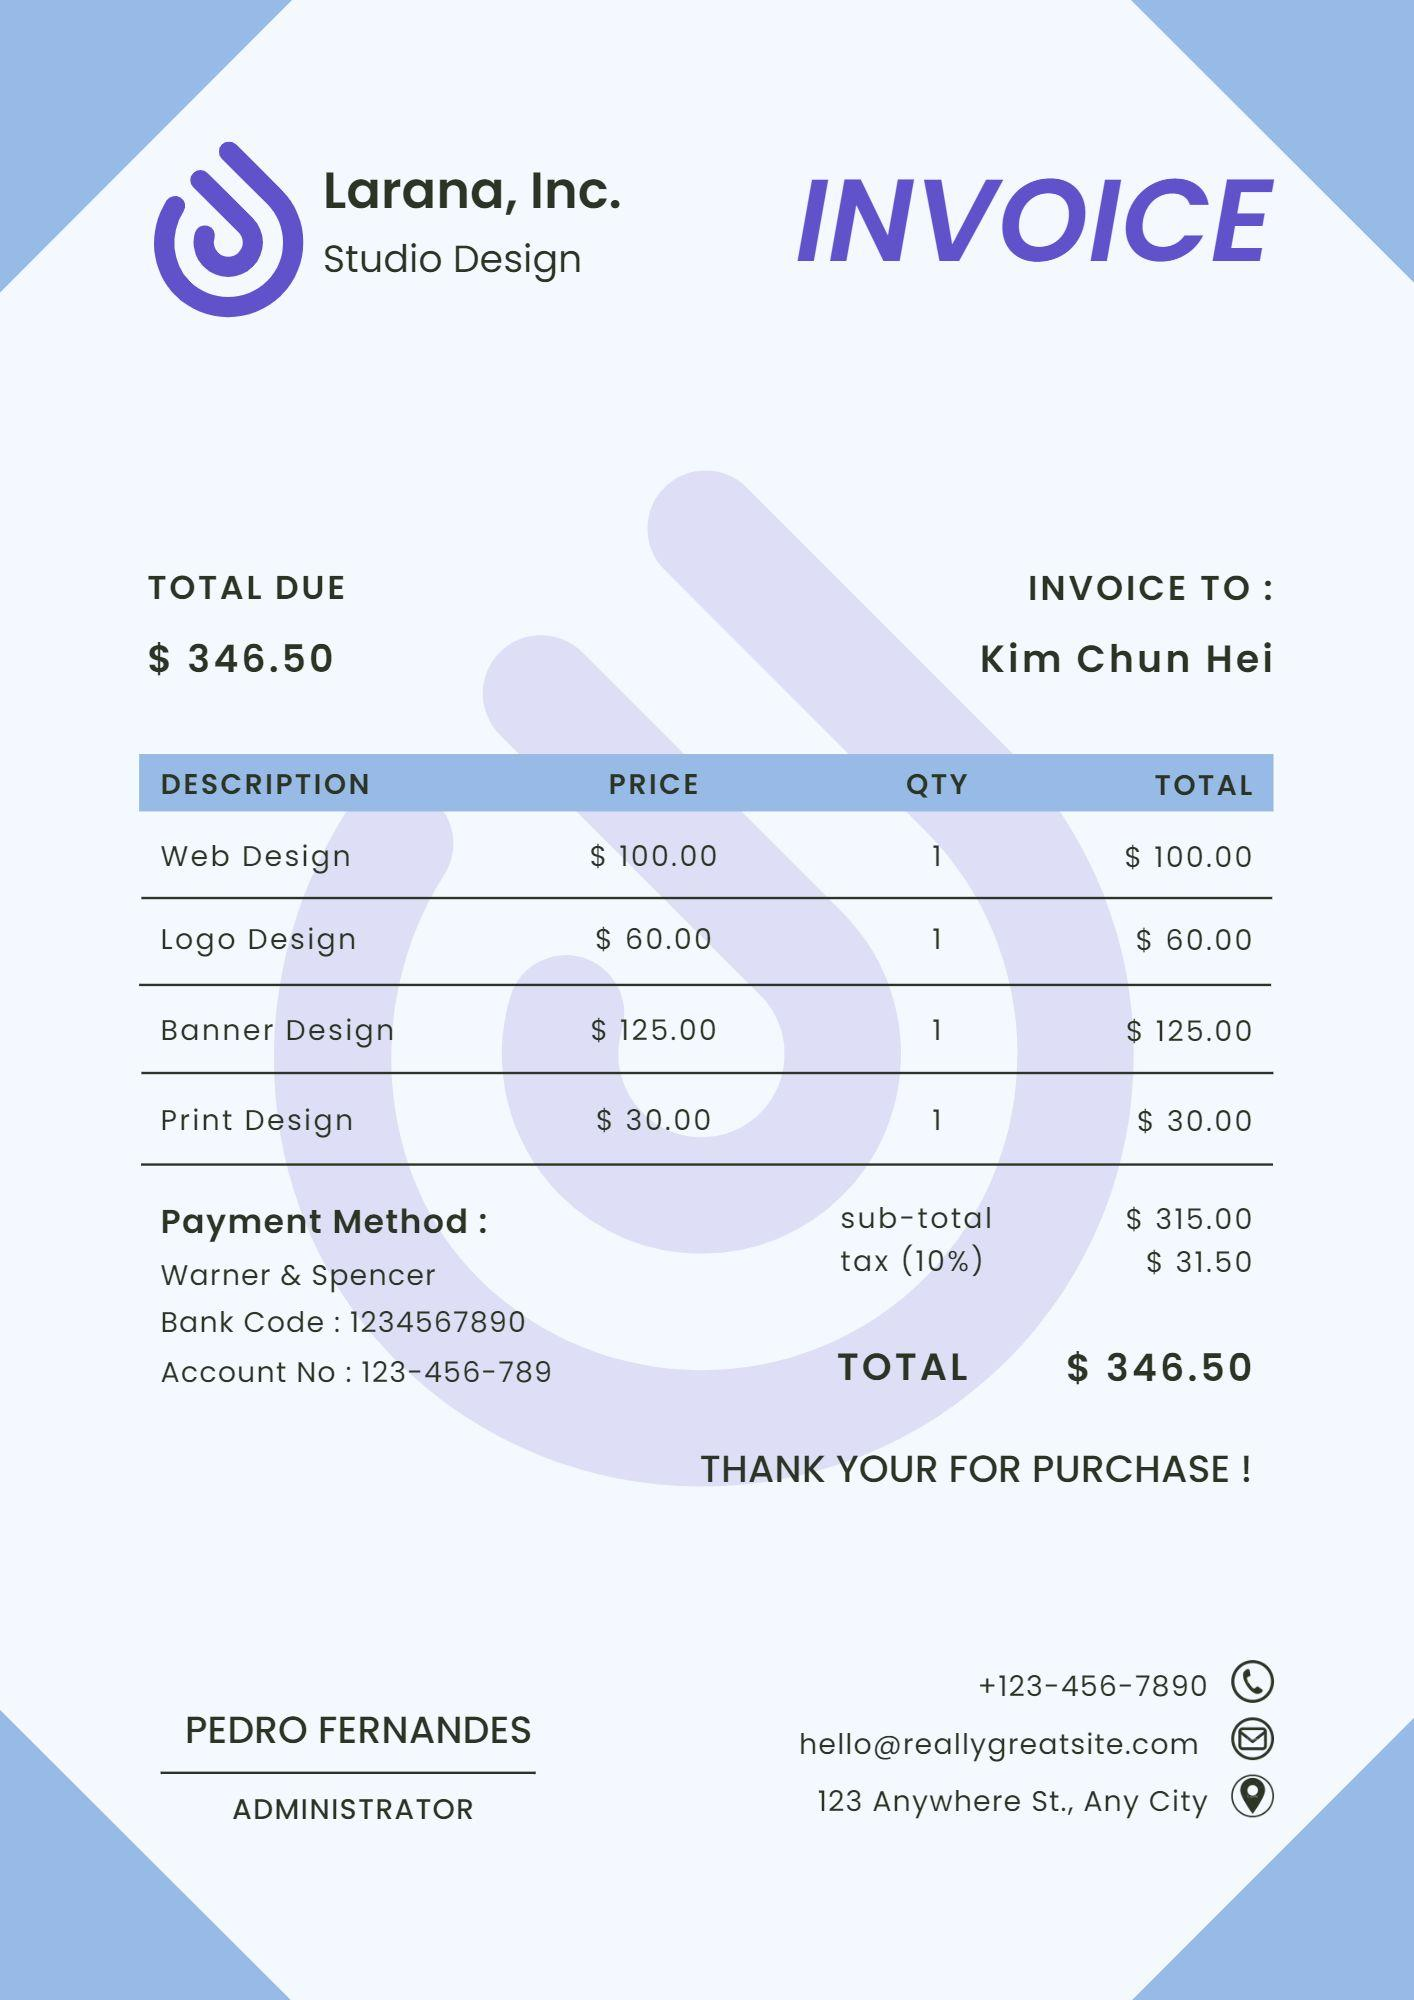ROI: (150, 752, 1272, 1178)
